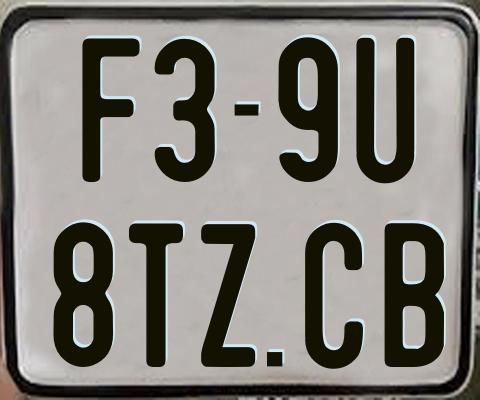3: (152, 37, 215, 183)
8: (51, 222, 111, 372)
9: (278, 37, 340, 182)
B: (383, 221, 448, 368)
C: (303, 221, 365, 370)
F: (80, 36, 138, 181)
T: (126, 221, 182, 371)
U: (355, 35, 418, 185)
Z: (201, 223, 255, 368)
